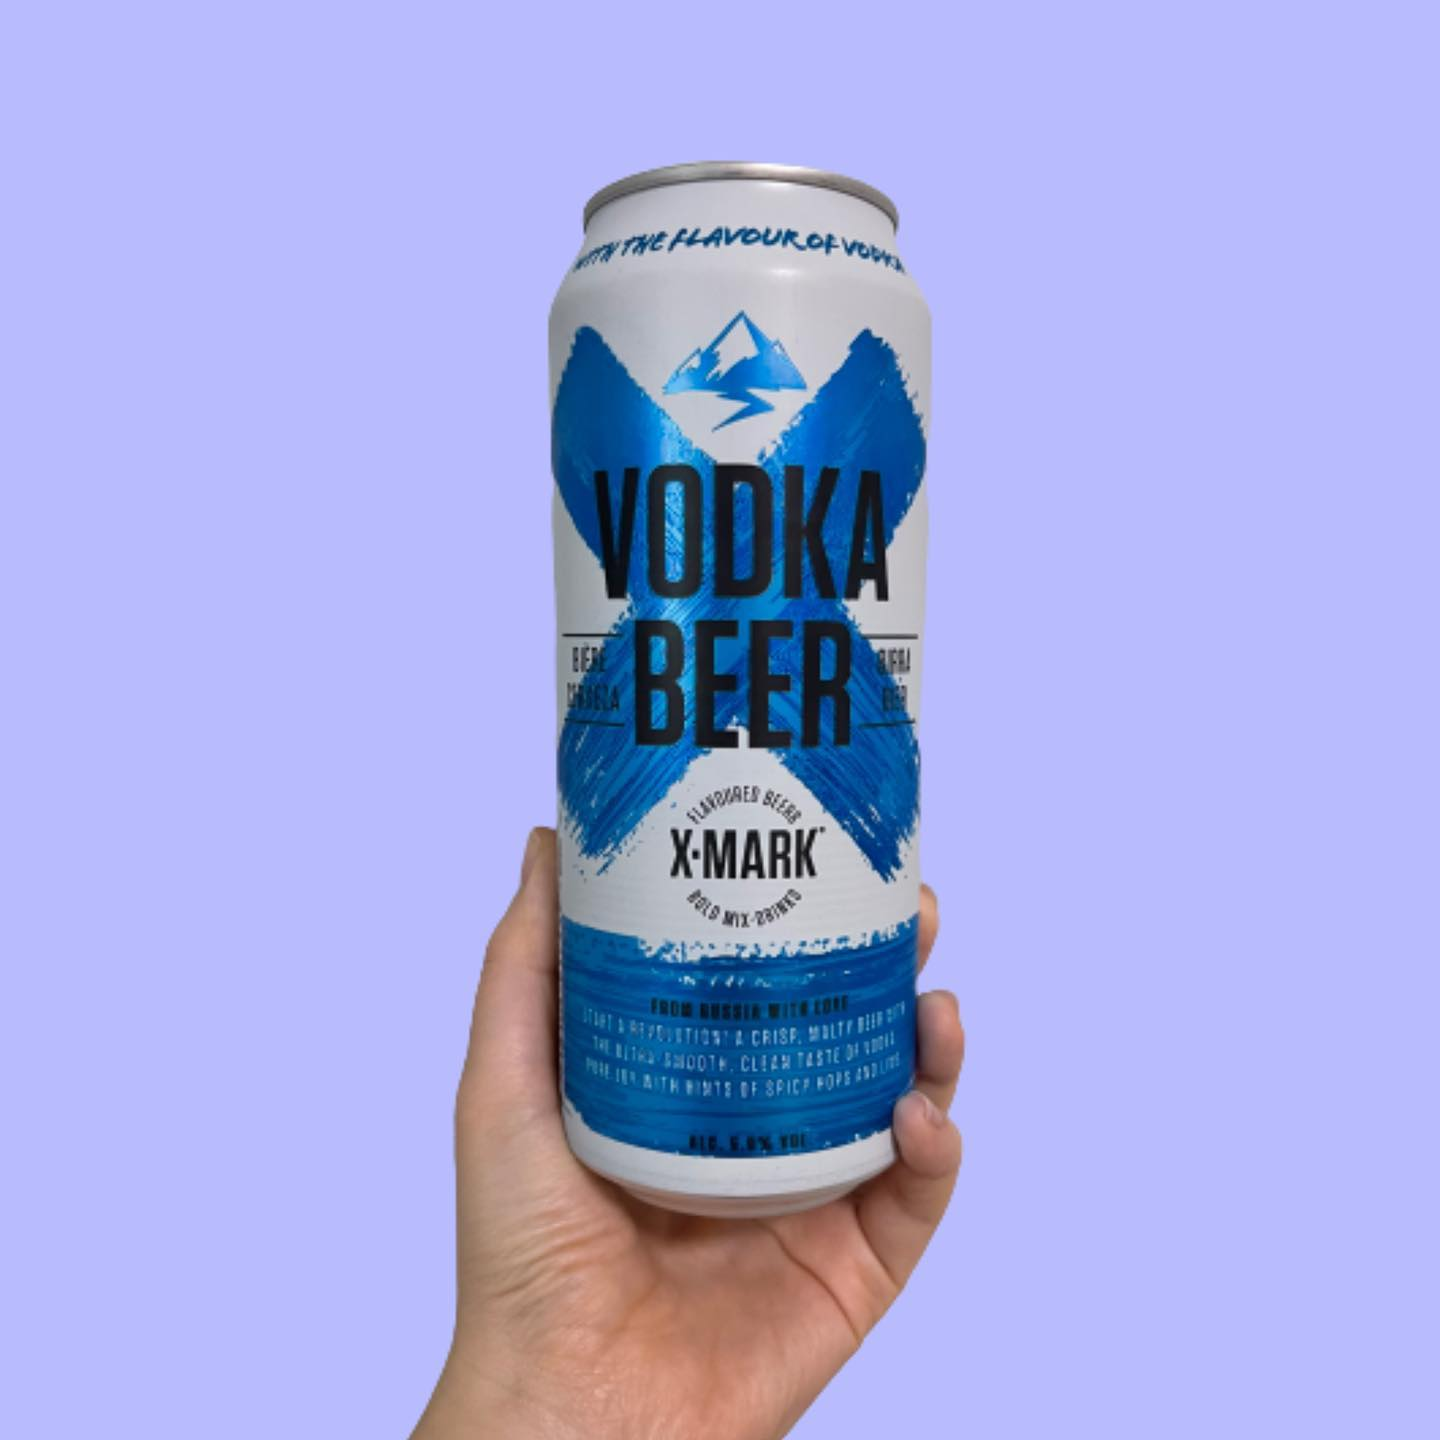alcohol: (541, 152, 943, 1230)
